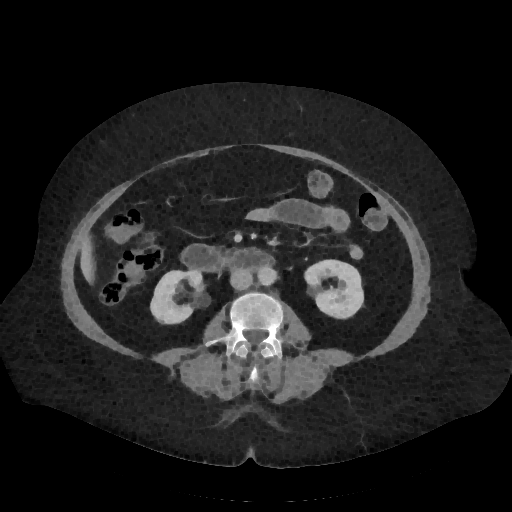Lesion: (338, 278, 347, 291)
